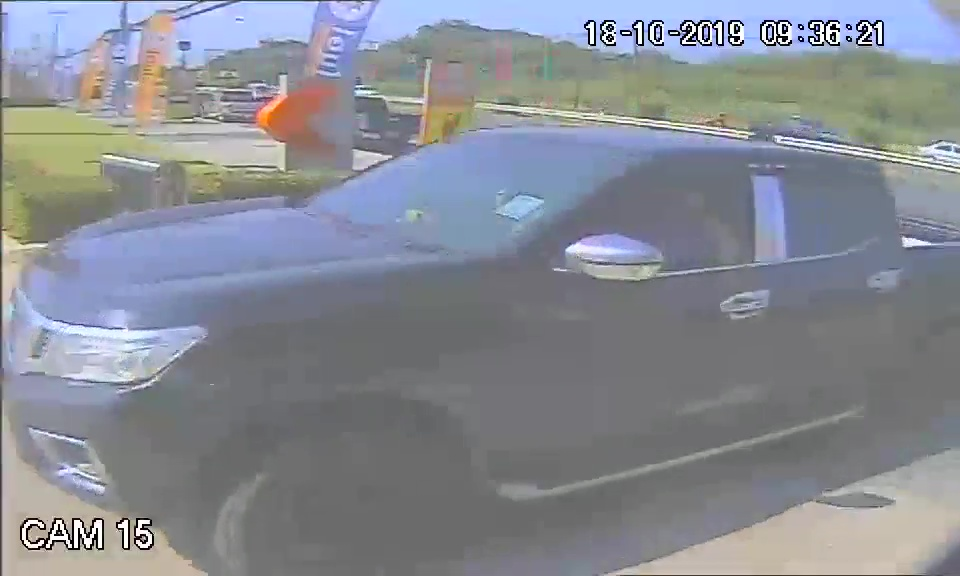pickup: (8, 123, 907, 510)
